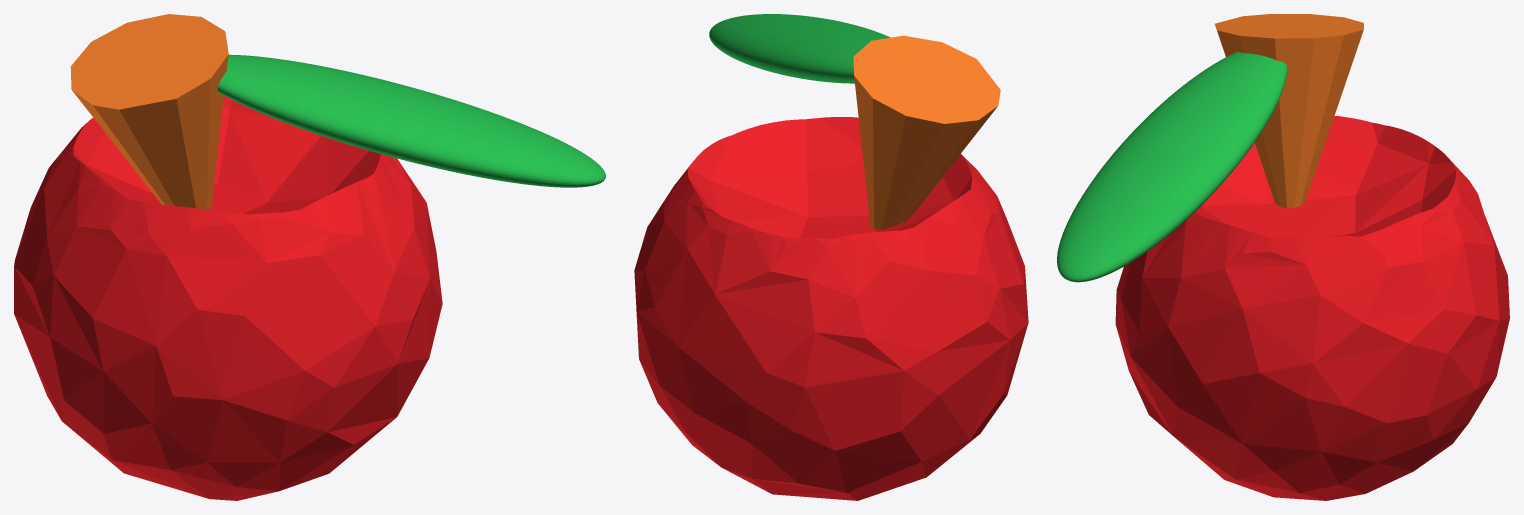
Rendered from cherry1.glb.
The picture shows the model from 3 angles, left to right: view 1: azimuth 30°, elevation 25°; view 2: azimuth 150°, elevation 25°; view 3: azimuth 270°, elevation 25°; orthographic projection. The views are drawn at different scales.
Visible parts, largest first — view 1: Mesh_1, Mesh_2, Mesh_0; view 2: Mesh_1, Mesh_0, Mesh_2; view 3: Mesh_1, Mesh_2, Mesh_0.
Boxes of the visible parts, x1,y1,x2,y2 form: Mesh_1: [14, 96, 442, 500]; Mesh_2: [217, 54, 605, 187]; Mesh_0: [70, 14, 228, 210]; Mesh_1: [634, 117, 1028, 500]; Mesh_0: [853, 35, 1000, 229]; Mesh_2: [709, 14, 890, 83]; Mesh_1: [1115, 116, 1509, 500]; Mesh_2: [1057, 52, 1287, 282]; Mesh_0: [1215, 14, 1363, 208].
Bounding box in the file's own units: 0.0466 × 0.0476 × 0.0455.
